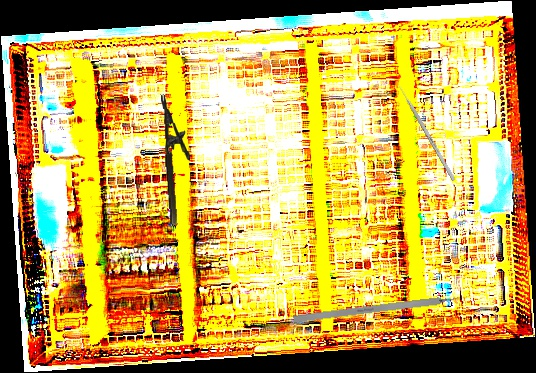Hook Surgical: (293, 292, 475, 324)
Needle Holder: (160, 92, 195, 226)
Pusher: (394, 78, 456, 182)
